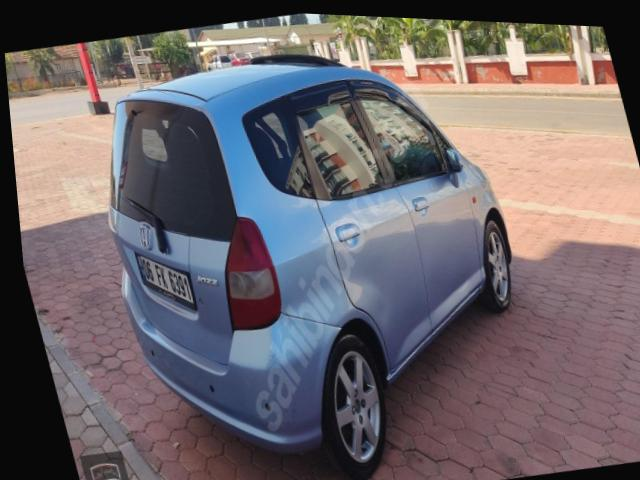plaka: (136, 255, 196, 308)
